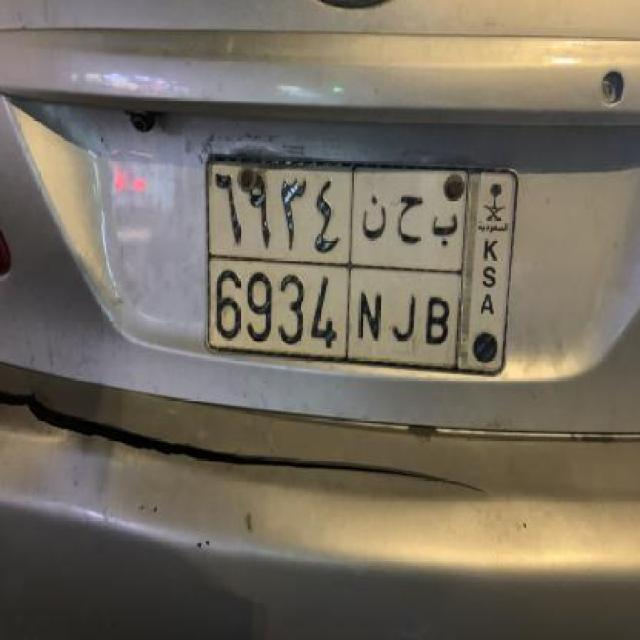license_plate: (202, 150, 526, 379)
